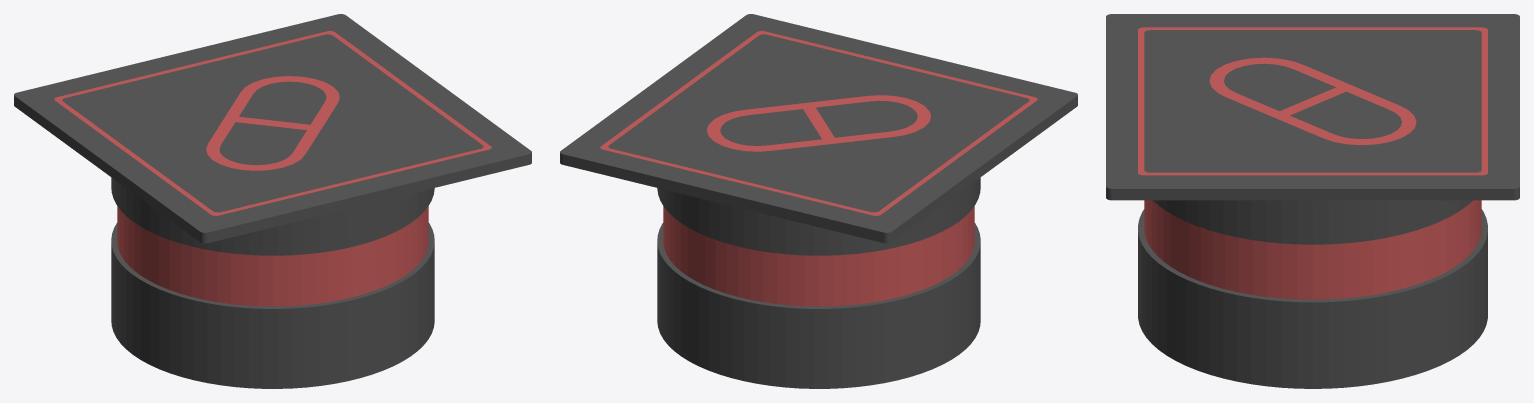
Rendered from bomboniera-farmacia-facolta-montato.glb.
3 views of the same model, side by side, from view 1: azimuth 30°, elevation 25°; view 2: azimuth 150°, elevation 25°; view 3: azimuth 270°, elevation 25° (orthographic). The views are drawn at different scales.
Visible parts, largest first — view 1: struttura_coperchio, struttura_base, fascia, bordo, simbolo_intarsio; view 2: struttura_coperchio, struttura_base, fascia, bordo, simbolo_intarsio; view 3: struttura_coperchio, struttura_base, fascia, bordo, simbolo_intarsio.
Part boxes in pixels (bbox=[...]): struttura_coperchio: bbox=[14, 14, 531, 255]; struttura_base: bbox=[111, 223, 434, 388]; fascia: bbox=[117, 206, 428, 306]; bordo: bbox=[54, 31, 491, 215]; simbolo_intarsio: bbox=[206, 76, 339, 170]; struttura_coperchio: bbox=[560, 14, 1077, 255]; struttura_base: bbox=[657, 223, 980, 388]; fascia: bbox=[663, 206, 974, 306]; bordo: bbox=[600, 31, 1037, 215]; simbolo_intarsio: bbox=[707, 95, 930, 151]; struttura_coperchio: bbox=[1106, 14, 1519, 244]; struttura_base: bbox=[1138, 209, 1487, 388]; fascia: bbox=[1144, 200, 1481, 299]; bordo: bbox=[1138, 27, 1487, 175]; simbolo_intarsio: bbox=[1209, 57, 1416, 145].
Size of the model in its own units: 0.065 by 0.037 by 0.065.
